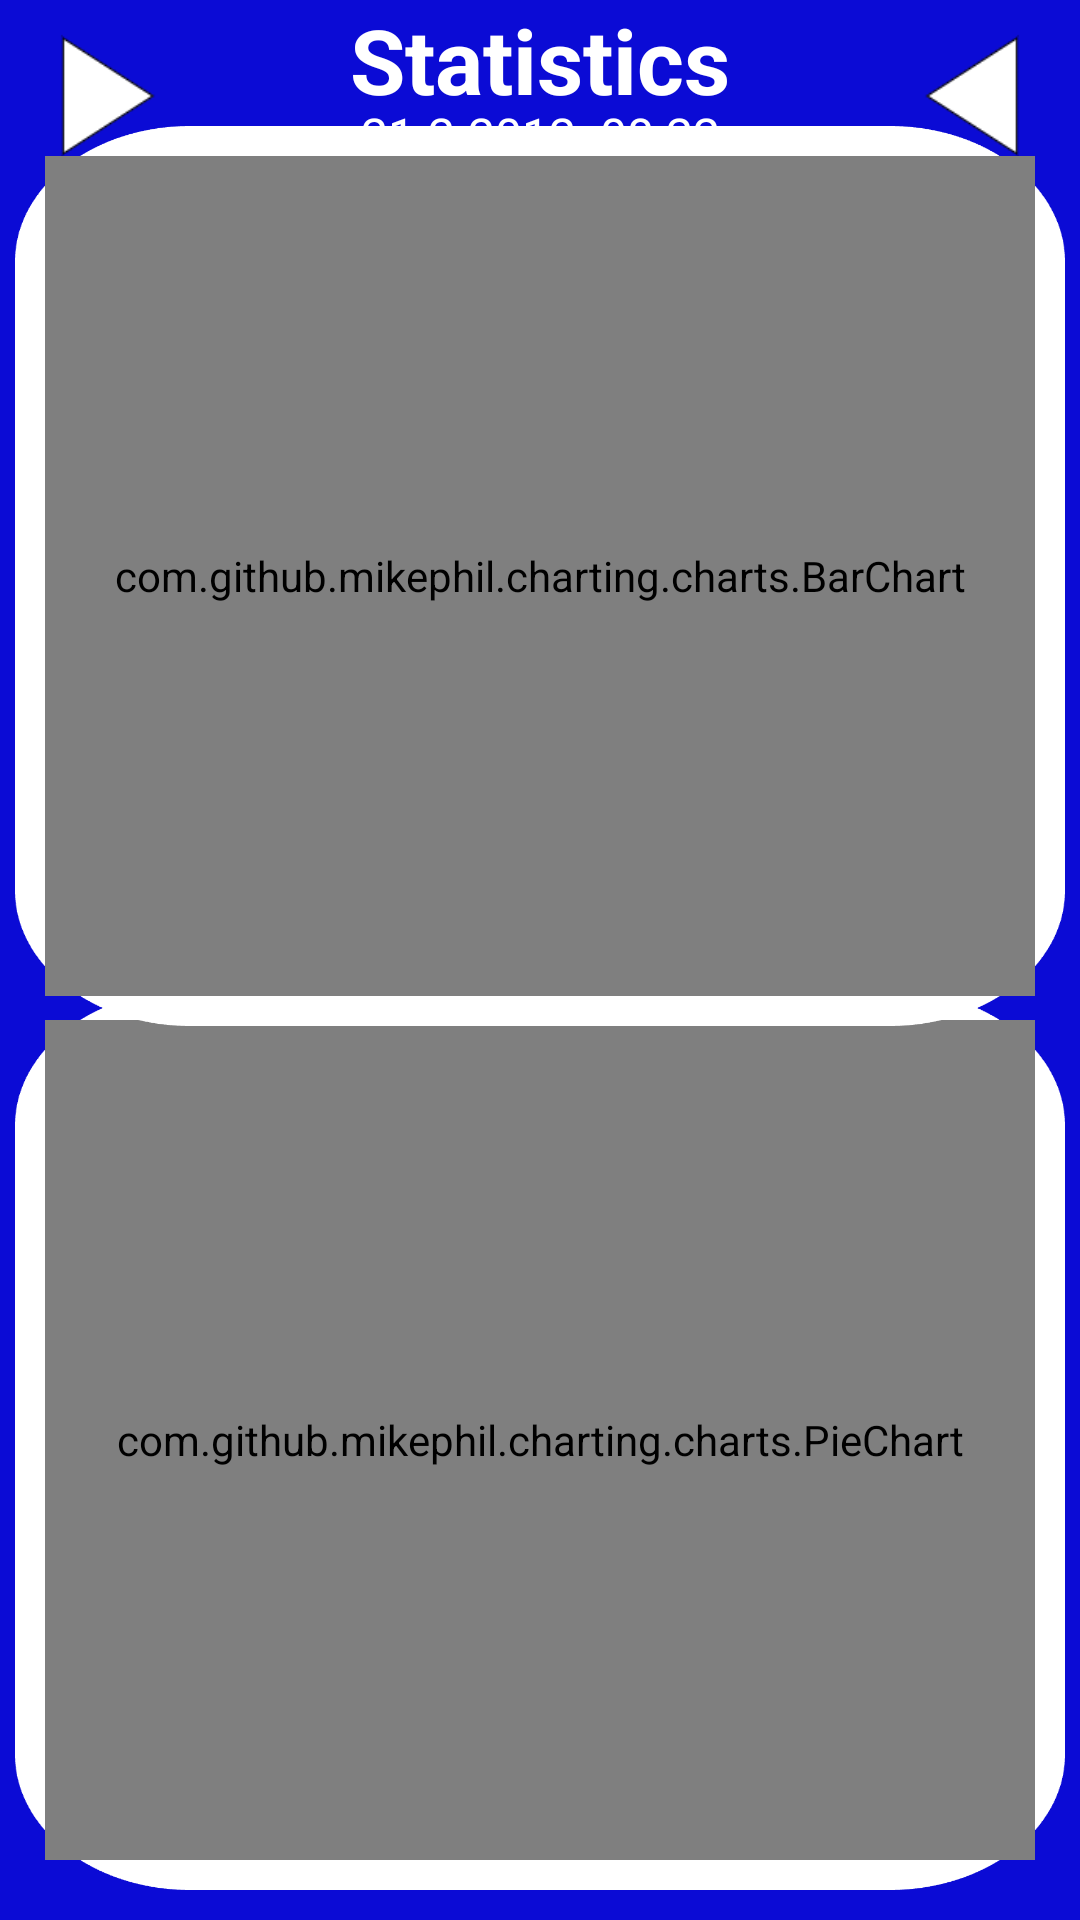

Named icons in this screenshot (1080px x 1920px) and their bounding boxes, box(x1, y1, x2, y2):
left enabeled: box(897, 35, 1035, 171)
right enabeled: box(45, 35, 183, 171)
